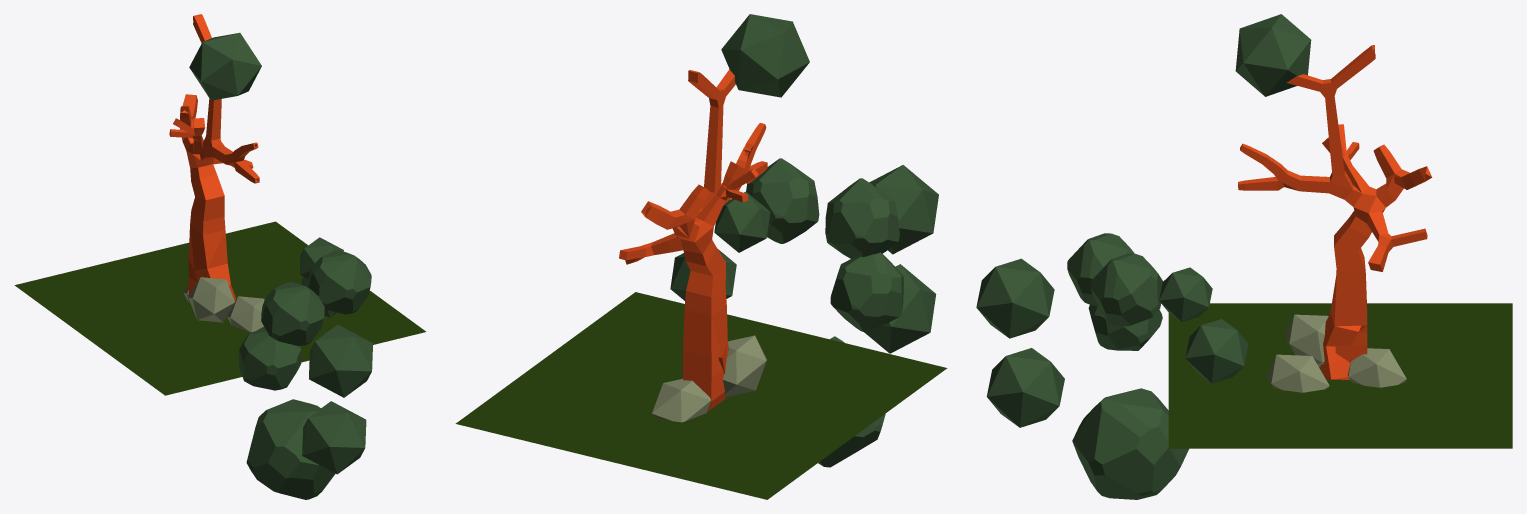
File: arbol2.fbx
The picture shows the model from 3 angles, left to right: view 1: azimuth 30°, elevation 25°; view 2: azimuth 150°, elevation 25°; view 3: azimuth 270°, elevation 25°; orthographic projection. The views are drawn at different scales.
Visible parts, largest first — view 1: Plane, Vert, Icosphere.002, Icosphere.001, Icosphere.003, Icosphere.007, Icosphere.004, Icosphere.005, Icosphere.006, Icosphere.010, Icosphere, Icosphere.009; view 2: Plane, Vert, Icosphere.007, Icosphere.004, Icosphere.006, Icosphere.005, Icosphere.003, Icosphere.001, Icosphere.009, Icosphere.010, Icosphere.011, Icosphere.002 (+1 smaller); view 3: Plane, Vert, Icosphere.002, Icosphere.007, Icosphere.003, Icosphere.001, Icosphere.005, Icosphere.008, Icosphere.004, Icosphere.009, Icosphere, Icosphere.006 (+2 smaller).
Boxes of the visible parts, x1,y1,x2,y2 form: Plane: (14, 221, 425, 395); Vert: (169, 14, 259, 301); Icosphere.002: (246, 399, 335, 499); Icosphere.001: (302, 401, 366, 474); Icosphere.003: (309, 324, 372, 397); Icosphere.007: (189, 32, 261, 100); Icosphere.004: (261, 281, 324, 346); Icosphere.005: (308, 250, 371, 314); Icosphere.006: (238, 328, 301, 390); Icosphere.010: (188, 277, 234, 322); Icosphere: (227, 296, 264, 332); Icosphere.009: (300, 237, 343, 278); Plane: (455, 292, 947, 499); Vert: (619, 69, 767, 411); Icosphere.007: (721, 14, 809, 97); Icosphere.004: (825, 178, 899, 259); Icosphere.006: (830, 252, 903, 331); Icosphere.005: (746, 158, 819, 243); Icosphere.003: (869, 165, 938, 254); Icosphere.001: (864, 264, 936, 353); Icosphere.009: (714, 191, 770, 252); Icosphere.010: (723, 335, 767, 396); Icosphere.011: (652, 378, 710, 422); Icosphere.002: (818, 336, 885, 467); Plane: (1168, 303, 1512, 448); Vert: (1238, 45, 1432, 379); Icosphere.002: (1072, 388, 1188, 499); Icosphere.007: (1235, 14, 1311, 96); Icosphere.003: (976, 258, 1054, 338); Icosphere.001: (986, 348, 1064, 427); Icosphere.005: (1090, 253, 1162, 326); Icosphere.008: (1185, 319, 1248, 383); Icosphere.004: (1067, 233, 1134, 305); Icosphere.009: (1159, 267, 1212, 321); Icosphere: (1267, 354, 1329, 392); Icosphere.006: (1088, 304, 1162, 350).
Size of the model in its own units: 494 by 747 by 771.
